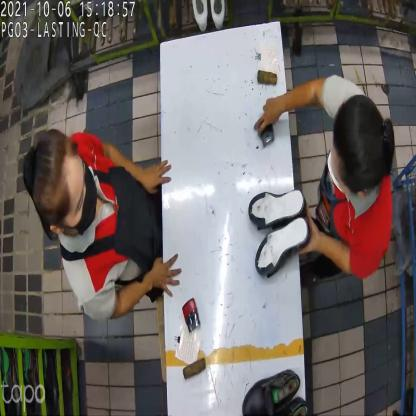shoes: (247, 190, 312, 274), (240, 370, 308, 416)
stamp: (255, 112, 276, 151), (184, 296, 202, 334)
